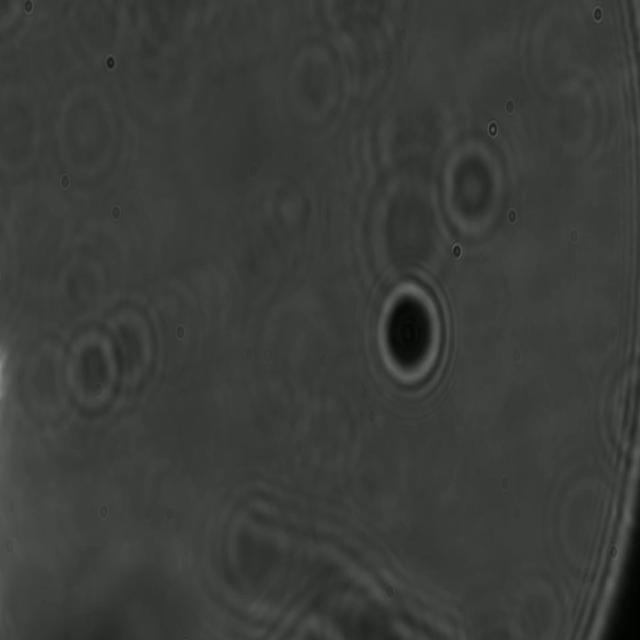DCELL: (370, 272, 452, 400)
